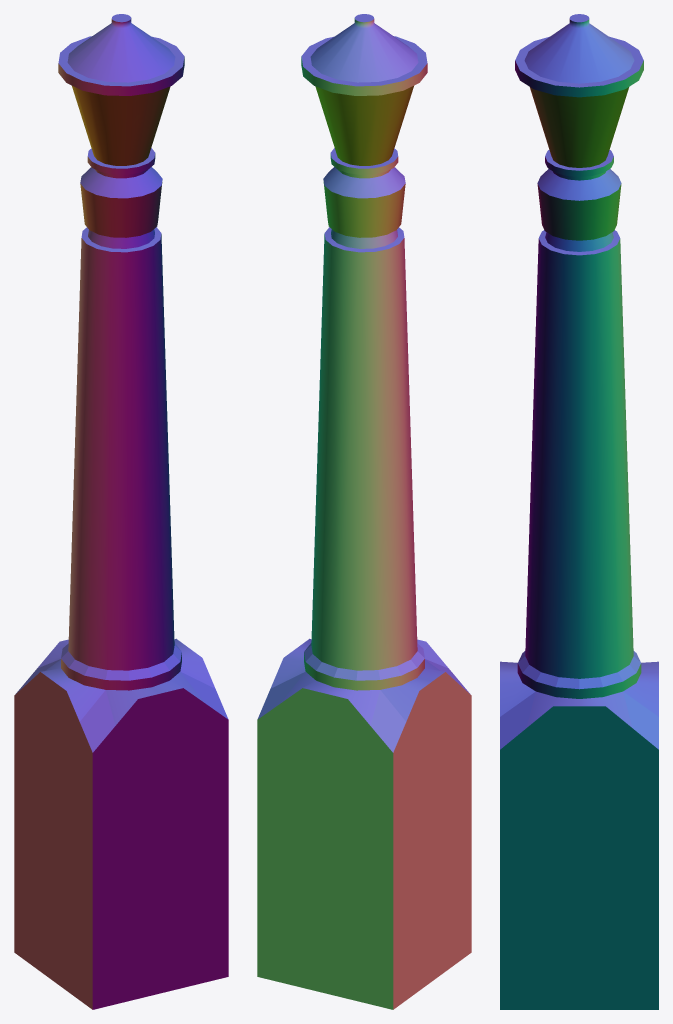
File: grave1 (1).fbx
The picture shows the model from 3 angles, left to right: view 1: azimuth 30°, elevation 25°; view 2: azimuth 150°, elevation 25°; view 3: azimuth 270°, elevation 25°; orthographic projection.
Parts seen in each view (by area): view 1: pCube13; view 2: pCube13; view 3: pCube13.
Part boxes in pixels (x1=…): pCube13: x1=14, y1=14, x2=228, y2=1009; pCube13: x1=257, y1=14, x2=471, y2=1009; pCube13: x1=500, y1=14, x2=658, y2=1009.
Size of the model in its own units: 0.7969 by 5.31 by 0.7969.
